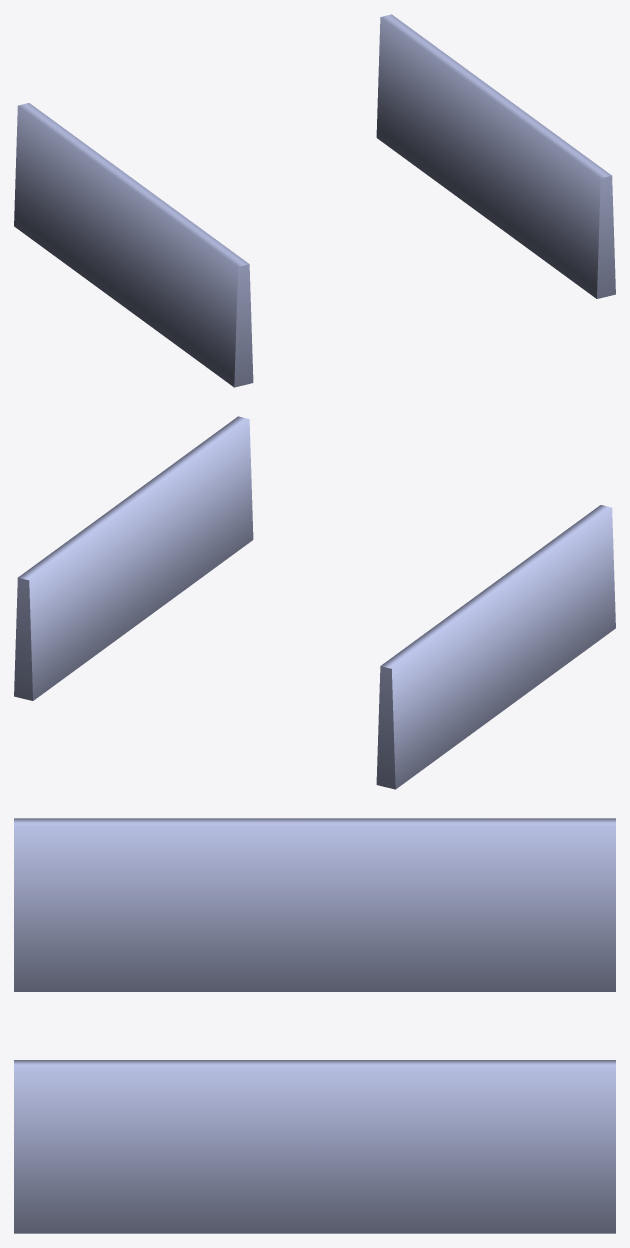
The model's file is collision-track-straight.fbx.
The picture shows the model from 3 angles, top to bottom: view 1: azimuth 30°, elevation 25°; view 2: azimuth 150°, elevation 25°; view 3: azimuth 270°, elevation 25°; orthographic projection. The views are drawn at different scales.
Parts seen in each view (by area): view 1: collision-track-straight; view 2: collision-track-straight; view 3: collision-track-straight.
Part boxes in pixels (bbox=[...]): collision-track-straight: bbox=[14, 14, 615, 387]; collision-track-straight: bbox=[14, 416, 615, 789]; collision-track-straight: bbox=[14, 818, 615, 1233].
Bounding box in the file's own units: 1000 × 300 × 1000.
Materials: 1 (1 with a texture image).
